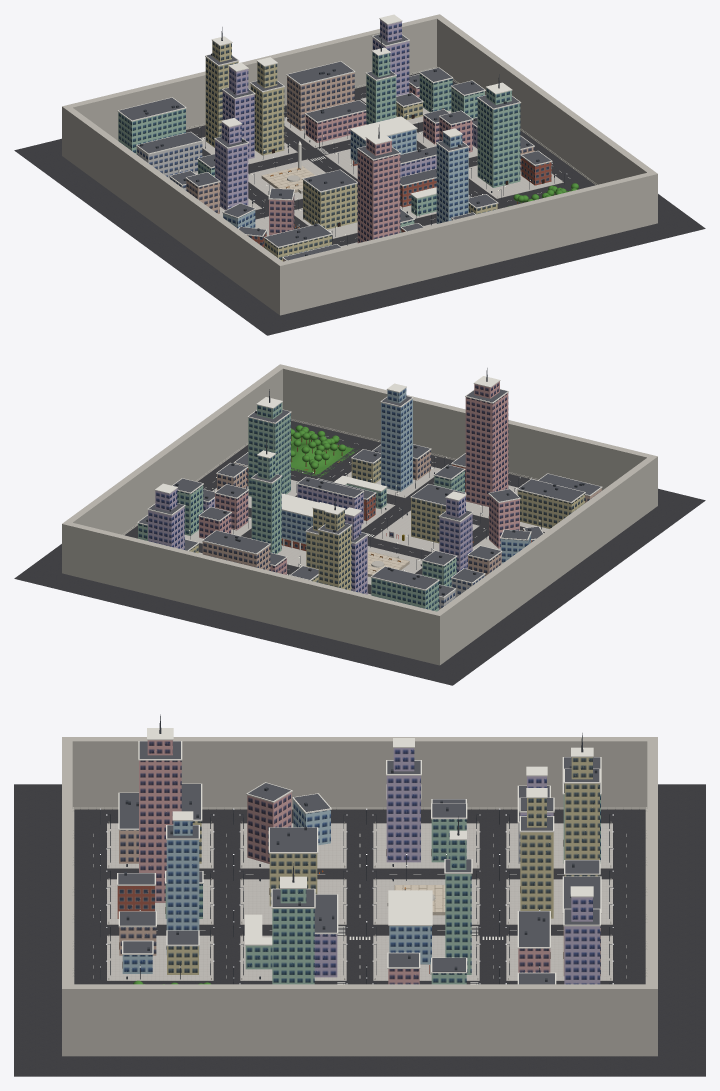
Rendered from test-city.glb.
The picture shows the model from 3 angles, top to bottom: view 1: azimuth 30°, elevation 25°; view 2: azimuth 150°, elevation 25°; view 3: azimuth 270°, elevation 25°; orthographic projection. The views are drawn at different scales.
Visible parts, largest first — view 1: body (×21), GROUND_streets, COL_south, COL_west, COL_east, COL_north, roof (×6), SLAB_75_25, upper_cornice, upper_mass, SLAB_-25_-25, platform; view 2: body (×19), COL_north, GROUND_streets, COL_south, COL_west, COL_east, roof (×5), GROUND_park_hill, SLAB_-25_25, upper_mass, upper_cornice, platform; view 3: GROUND_streets, COL_east, body (×19), COL_west, roof (×6), COL_south, COL_north, SLAB_25_75, SLAB_-75_-25, SLAB_-25_25, SLAB_25_-75, SLAB_25_-25 (+12 smaller).
Part boxes in pixels (box(x1,y1,x2,y2)): body (×21): box(118, 38, 551, 261); GROUND_streets: box(14, 73, 705, 335); COL_south: box(276, 171, 657, 315); COL_west: box(62, 105, 286, 314); COL_east: box(437, 14, 657, 224); COL_north: box(62, 14, 442, 155); roof (×6): box(119, 61, 366, 246); SLAB_75_25: box(468, 165, 563, 198); upper_cornice: box(349, 116, 417, 141); upper_mass: box(350, 129, 416, 162); SLAB_-25_-25: box(248, 159, 325, 200); platform: box(261, 166, 314, 192); body (×19): box(148, 393, 584, 611); COL_north: box(62, 521, 443, 665); GROUND_streets: box(14, 421, 705, 685); COL_south: box(277, 364, 657, 508); COL_west: box(433, 455, 657, 664); COL_east: box(62, 365, 282, 574); roof (×5): box(203, 474, 600, 589); GROUND_park_hill: box(291, 436, 357, 476); SLAB_-25_25: box(373, 510, 479, 552); upper_mass: box(281, 510, 312, 543); upper_cornice: box(281, 493, 318, 517); platform: box(367, 551, 409, 576); GROUND_streets: box(14, 784, 705, 1076); COL_east: box(62, 984, 657, 1056); body (×19): box(117, 760, 600, 984); COL_west: box(63, 737, 657, 808); roof (×6): box(119, 784, 600, 946); COL_south: box(62, 737, 72, 1056); COL_north: box(647, 737, 657, 1056); SLAB_25_75: box(107, 935, 213, 980); SLAB_-75_-25: box(373, 823, 479, 868); SLAB_-25_25: box(240, 879, 346, 924); SLAB_25_-75: box(506, 935, 612, 980); SLAB_25_-25: box(373, 935, 479, 980).
Size of the model in its own units: 260 by 76.68 by 260.
Materials: 26 (13 with a texture image).
